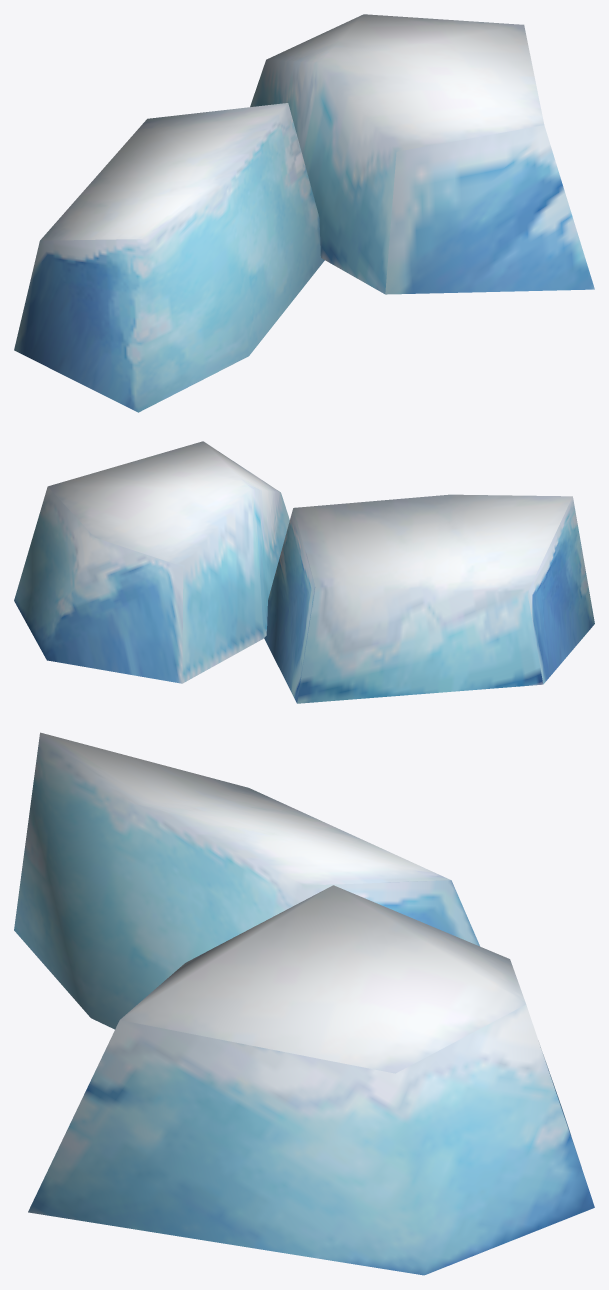
The model's file is SM_stoneB_10.fbx.
3 renders of one model, top to bottom at view 1: azimuth 30°, elevation 25°; view 2: azimuth 150°, elevation 25°; view 3: azimuth 270°, elevation 25°, orthographic. The views are drawn at different scales.
Parts seen in each view (by area): view 1: SM_stoneB_10; view 2: SM_stoneB_10; view 3: SM_stoneB_10.
Boxes of the visible parts, x1=… form: SM_stoneB_10: x1=14, y1=14, x2=594, y2=412; SM_stoneB_10: x1=14, y1=441, x2=594, y2=703; SM_stoneB_10: x1=14, y1=732, x2=594, y2=1275.
Bounding box in the file's own units: 1.32 × 0.3917 × 0.8698.
